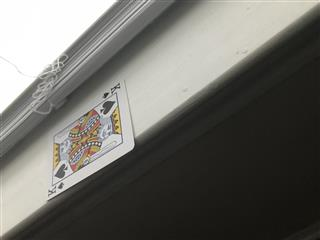KingOfSpades: (44, 78, 136, 202)
